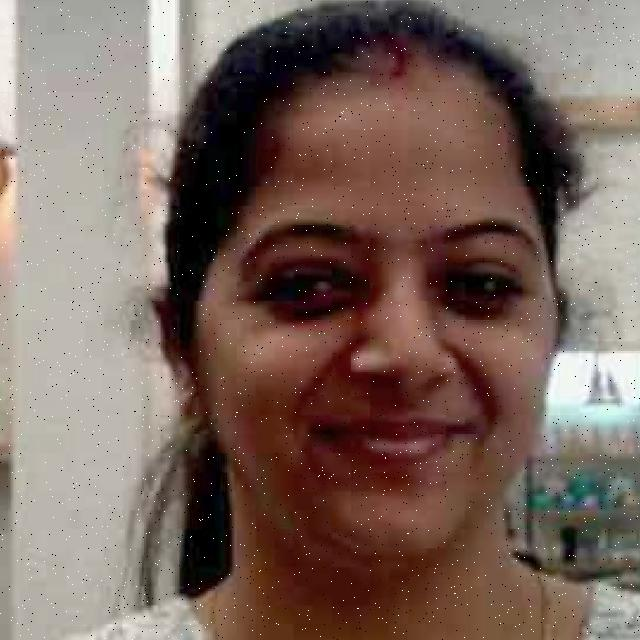puffy_eyes: (260, 298, 361, 324), (439, 294, 515, 317)
